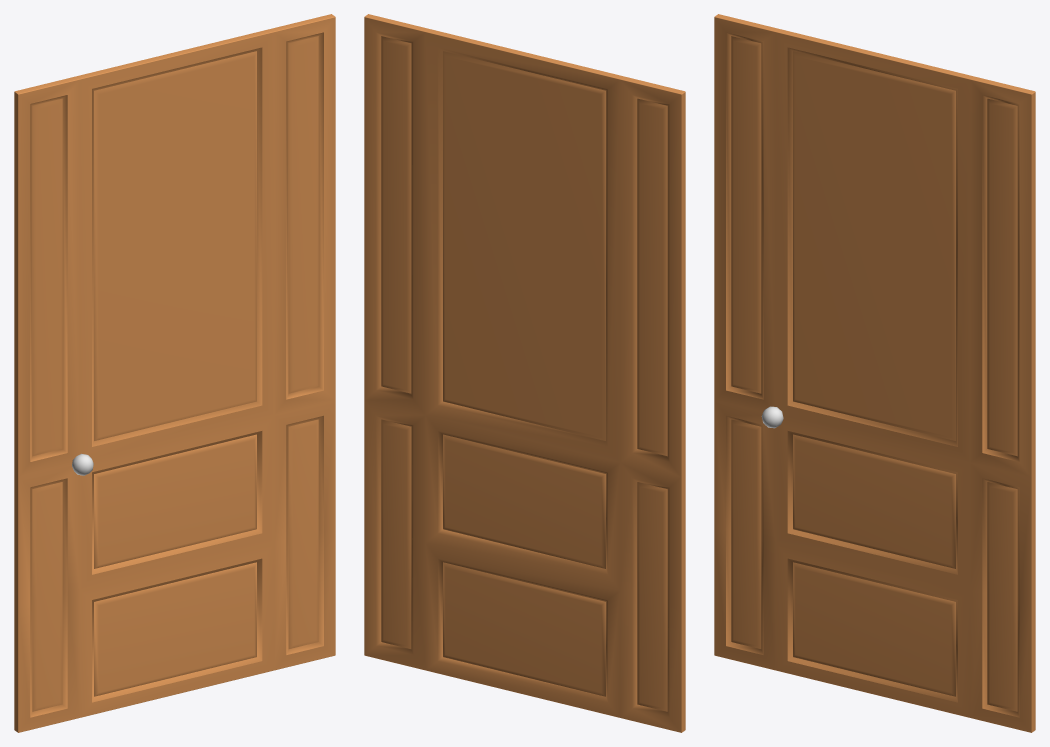
Rendered from SP_House07_Door.fbx.
The picture shows the model from 3 angles, left to right: view 1: azimuth 30°, elevation 25°; view 2: azimuth 150°, elevation 25°; view 3: azimuth 330°, elevation 25°; orthographic projection.
Visible parts, largest first — view 1: SP_House07_Door; view 2: SP_House07_Door; view 3: SP_House07_Door.
Boxes of the visible parts, x1=… form: SP_House07_Door: x1=14, y1=14, x2=335, y2=732; SP_House07_Door: x1=364, y1=14, x2=685, y2=732; SP_House07_Door: x1=714, y1=14, x2=1035, y2=732.
Bounding box in the file's own units: 1.33 × 2.55 × 0.0927.
